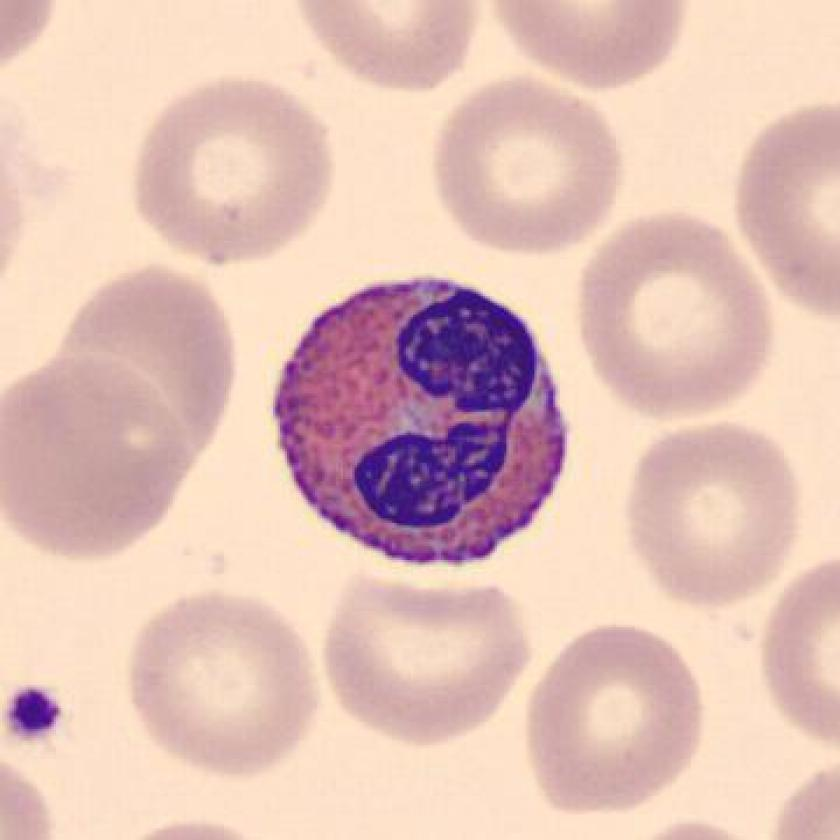eosinophil: (260, 265, 584, 579)
